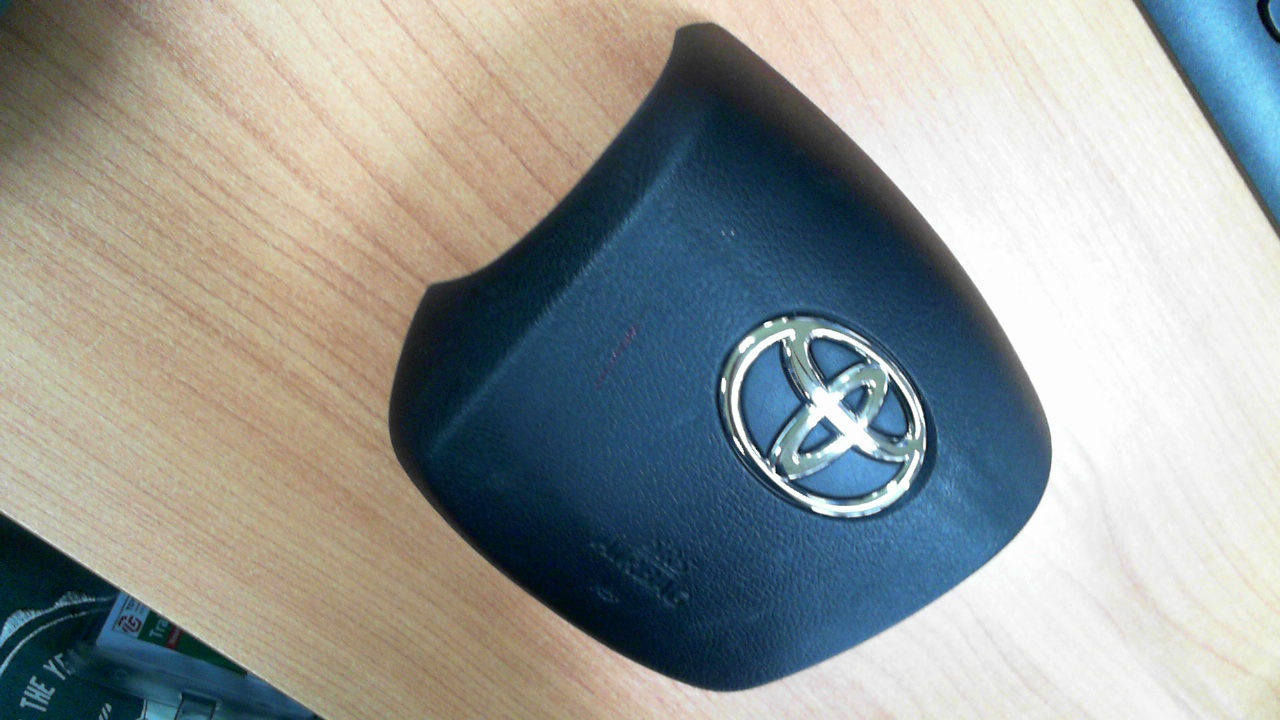Airbag: (387, 22, 1054, 694)
Toyota: (720, 316, 927, 518)
